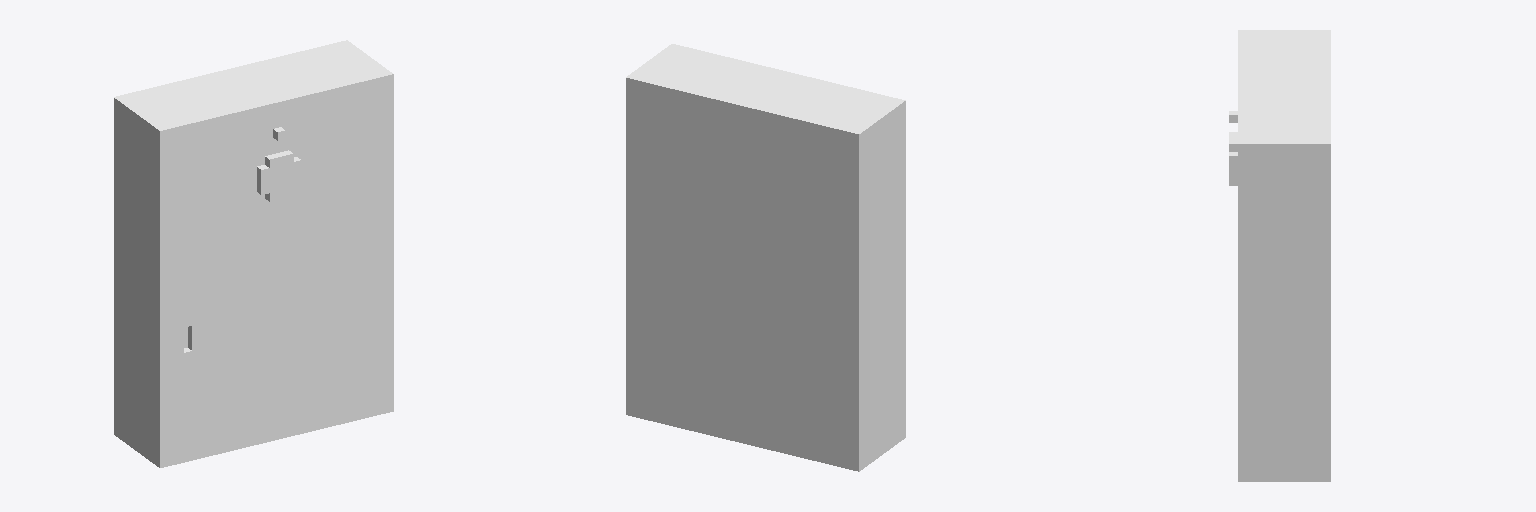
The model's file is FireHydrant.obj.
3 renders of one model, left to right at view 1: azimuth 30°, elevation 25°; view 2: azimuth 150°, elevation 25°; view 3: azimuth 270°, elevation 25°, orthographic.
Parts seen in each view (by area): view 1: object 1; view 2: object 1; view 3: object 1.
Part boxes in pixels (x1,y1,x2,y2): object 1: (114,40,393,467); object 1: (626,44,905,471); object 1: (1229,30,1330,481).
Size of the model in its own units: 2.9 by 4 by 1.1.